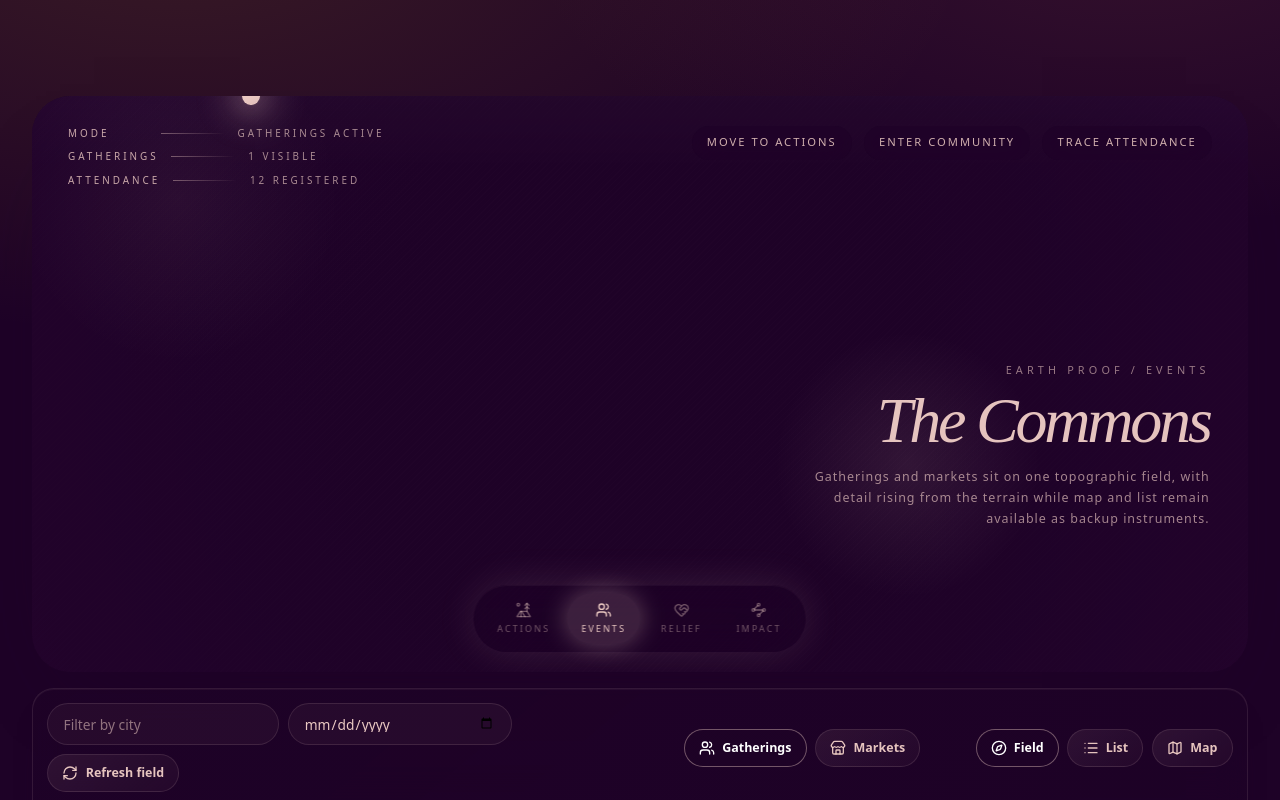
EventsPage › switches into the market layer and exposes the venue detail chamber
The image size is (1280, 800).
Click the button "Markets". click: (868, 748)
box: [815, 729, 920, 767]
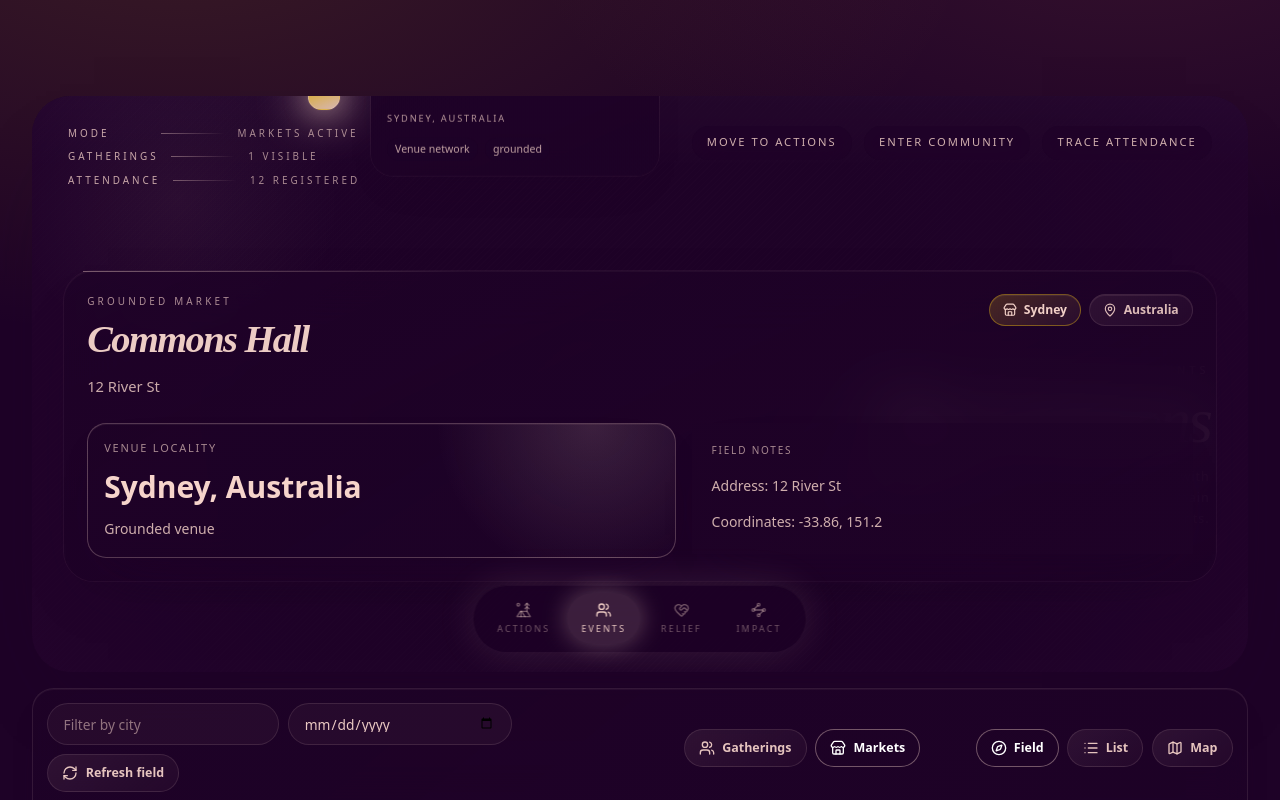
Expected: the text "Grounded market" is shown, [87, 294, 232, 308]
